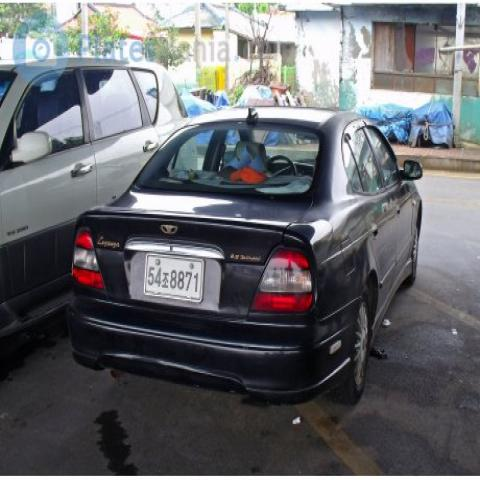LP: (138, 243, 211, 314)
